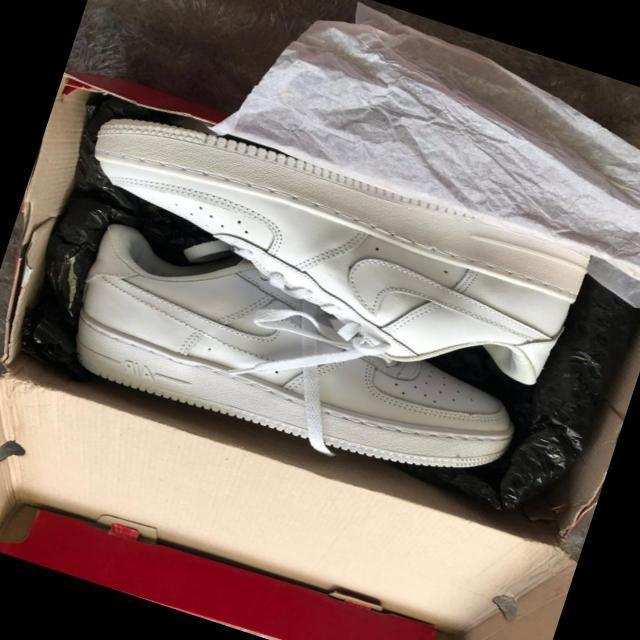nike fake air force: (57, 86, 628, 422), (41, 211, 542, 507)
